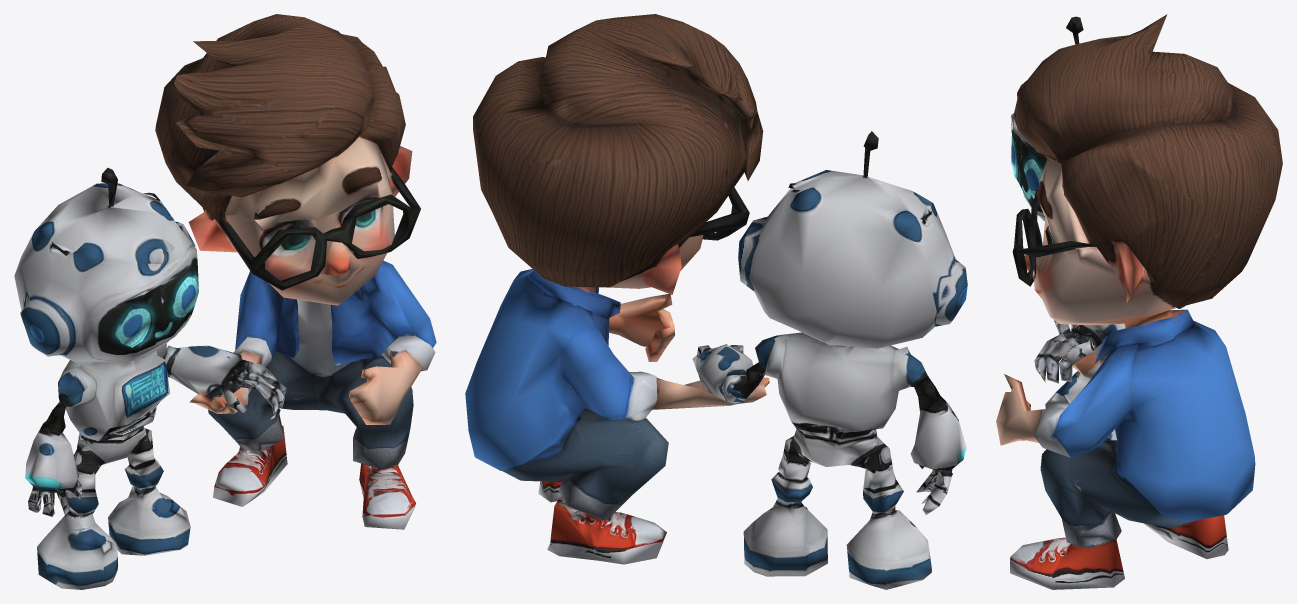
The model's file is together_lowpoly_backup.glb.
The picture shows the model from 3 angles, left to right: view 1: azimuth 30°, elevation 25°; view 2: azimuth 150°, elevation 25°; view 3: azimuth 270°, elevation 25°; orthographic projection. The views are drawn at different scales.
Visible parts, largest first — view 1: tripo_node_95284364-5724-41f6-aaf2-f00a38d82f90; view 2: tripo_node_95284364-5724-41f6-aaf2-f00a38d82f90; view 3: tripo_node_95284364-5724-41f6-aaf2-f00a38d82f90.
Part boxes in pixels (x1=…): tripo_node_95284364-5724-41f6-aaf2-f00a38d82f90: x1=14, y1=14, x2=436, y2=589; tripo_node_95284364-5724-41f6-aaf2-f00a38d82f90: x1=465, y1=14, x2=967, y2=589; tripo_node_95284364-5724-41f6-aaf2-f00a38d82f90: x1=996, y1=14, x2=1282, y2=589.
Bounding box in the file's own units: 0.9012 × 0.9788 × 0.5146.
1 material, 1 textured.
